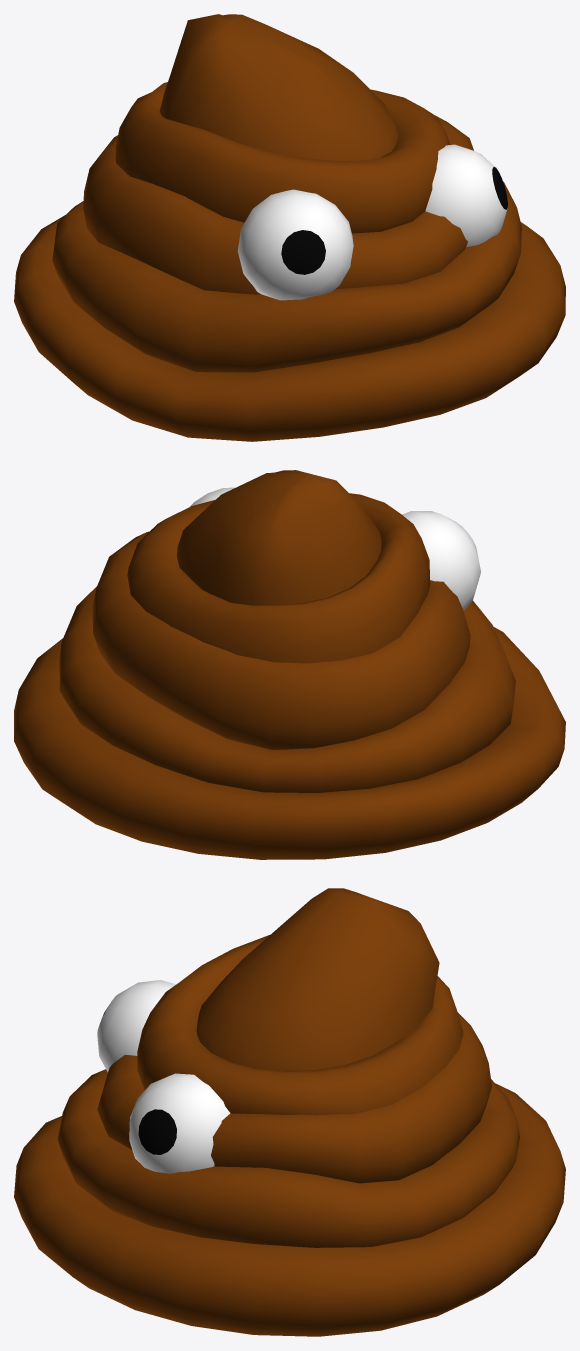
Rendered from PicketBomb.fbx.
3 views of the same model, one above another, from view 1: azimuth 30°, elevation 25°; view 2: azimuth 150°, elevation 25°; view 3: azimuth 270°, elevation 25° (orthographic). The views are drawn at different scales.
Visible parts, largest first — view 1: Torus; view 2: Torus; view 3: Torus.
Part boxes in pixels (box(x1,y1,x2,y2)): Torus: box(14, 14, 565, 441); Torus: box(14, 470, 565, 859); Torus: box(14, 888, 565, 1336).
Size of the model in its own units: 50.32 by 32.63 by 49.78.
Materials: 1 (1 with a texture image).
